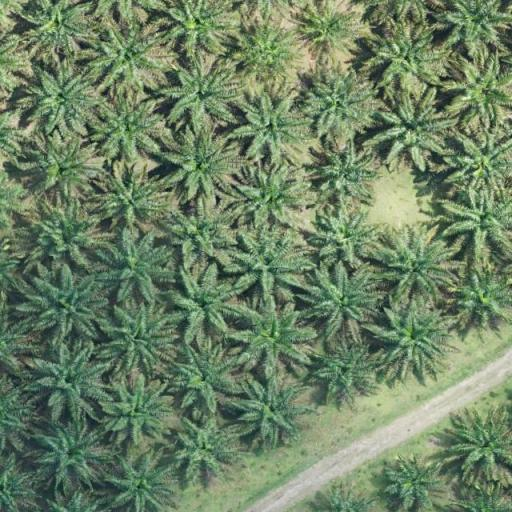Ganoderma: (304, 8, 351, 53)
